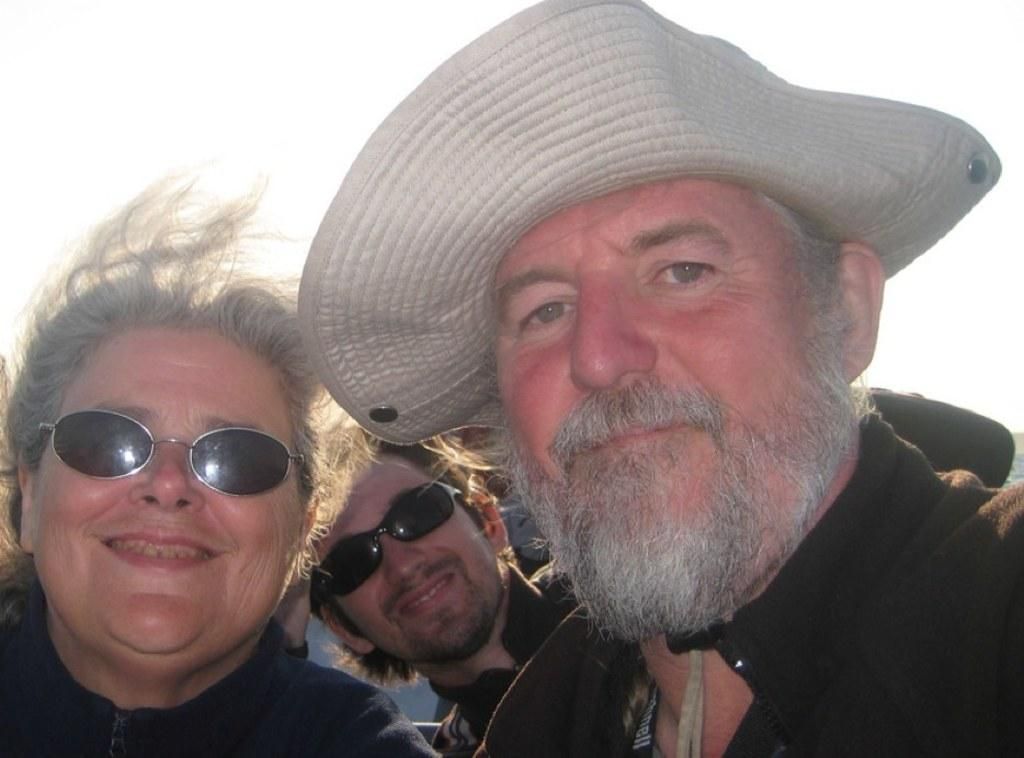Hat: (295, 0, 1001, 445)
